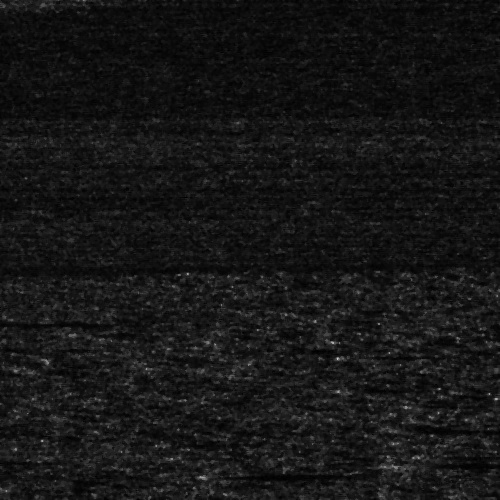object: (363, 417, 416, 434), (163, 470, 246, 479), (389, 458, 400, 469)
shadow: (390, 417, 481, 434), (395, 458, 500, 469), (204, 470, 328, 479), (0, 317, 119, 326), (0, 452, 21, 461)
